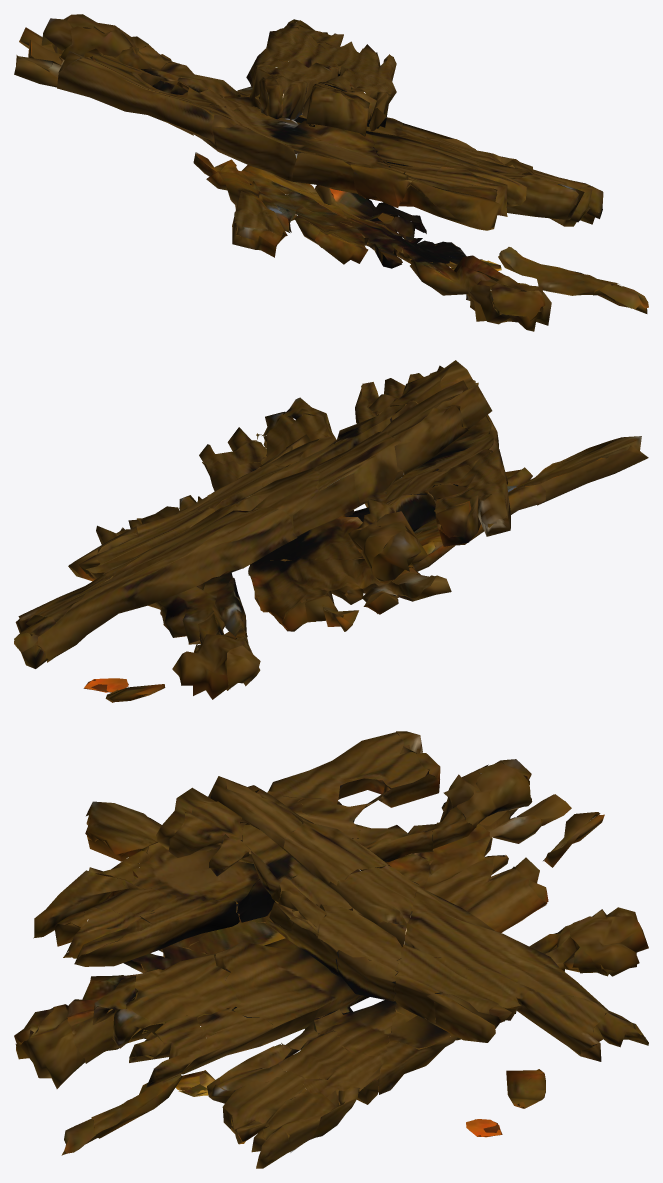
Rendered from chiave.glb.
3 renders of one model, top to bottom at view 1: azimuth 30°, elevation 25°; view 2: azimuth 150°, elevation 25°; view 3: azimuth 270°, elevation 25°, orthographic. The views are drawn at different scales.
Parts seen in each view (by area): view 1: legno; view 2: legno; view 3: legno.
Part boxes in pixels (x1,y1,x2,y2): legno: [14, 14, 648, 331]; legno: [14, 360, 648, 702]; legno: [14, 731, 648, 1168].
Bounding box in the file's own units: 0.278 × 0.139 × 0.3262.
1 material, 1 textured.
